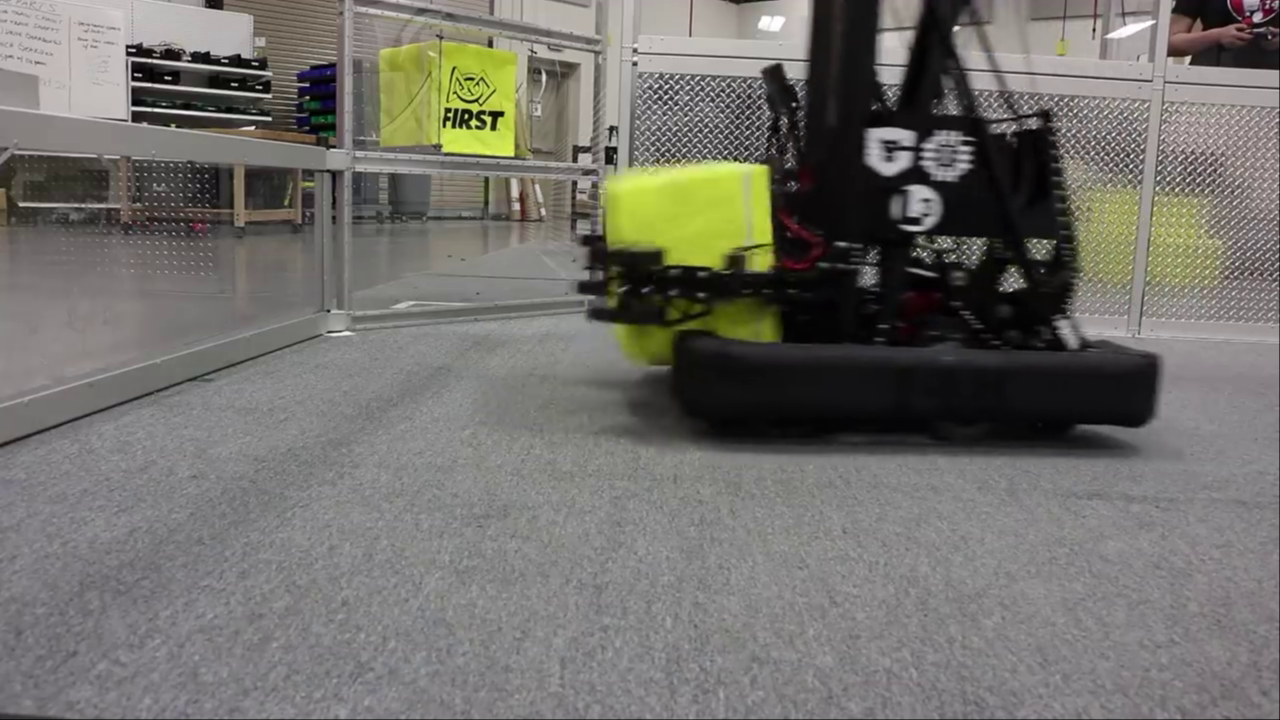cube: (605, 165, 783, 364), (378, 44, 514, 158)
